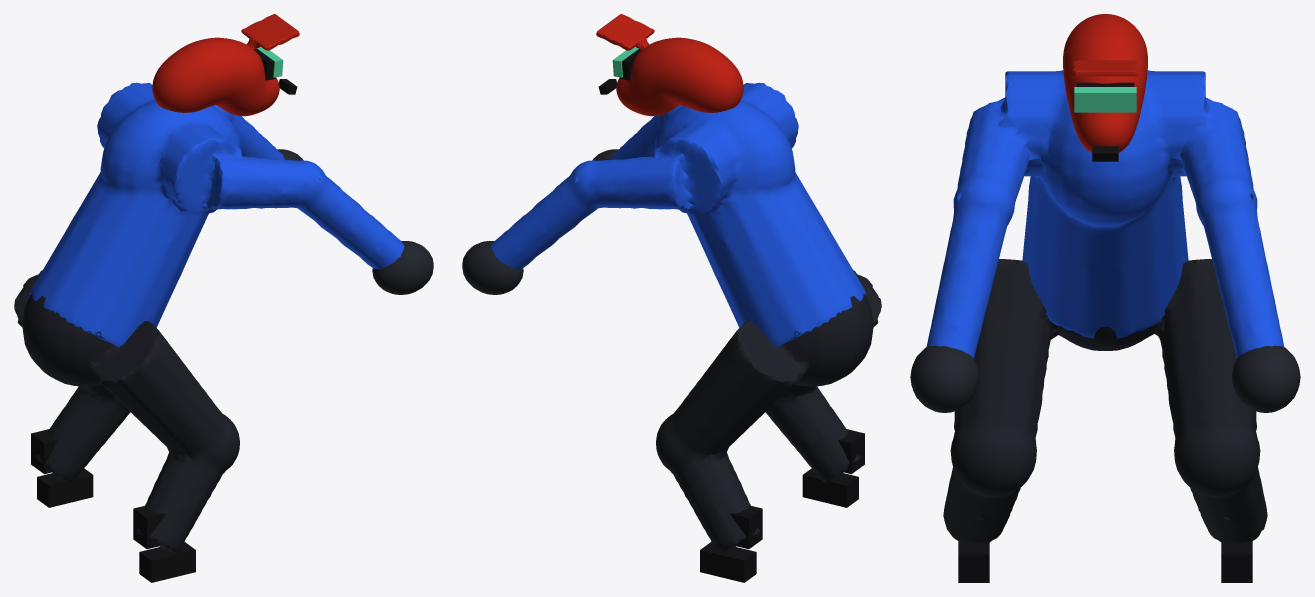
File: rider.obj
3 renders of one model, left to right at view 1: azimuth 30°, elevation 25°; view 2: azimuth 150°, elevation 25°; view 3: azimuth 270°, elevation 25°, orthographic. The views are drawn at different scales.
Parts seen in each view (by area): view 1: RiderBody; view 2: RiderBody; view 3: RiderBody.
Boxes of the visible parts, box(x1,y1,x2,y2) form: RiderBody: box(14, 14, 433, 582); RiderBody: box(462, 14, 881, 582); RiderBody: box(910, 14, 1300, 582).
Size of the model in its own units: 0.8012 by 1.07 by 0.623.
